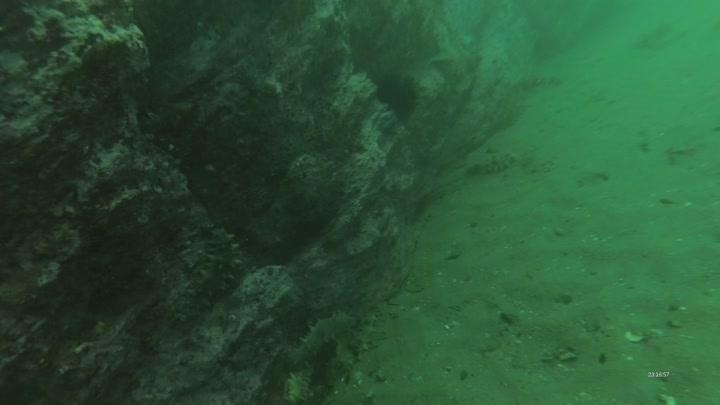echinus: (372, 70, 421, 124)
holothurian: (281, 299, 357, 362), (188, 223, 243, 305), (497, 60, 563, 92), (460, 146, 522, 180), (280, 364, 321, 405)
starfish: (428, 33, 480, 89)
